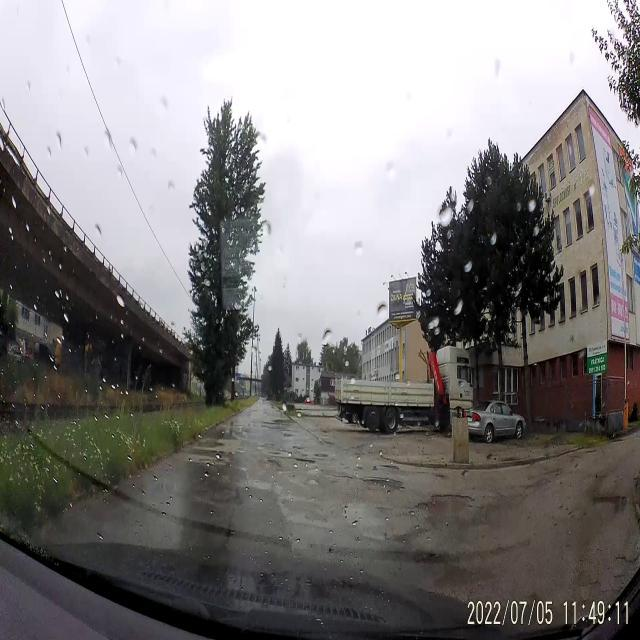Manhole: (316, 451, 330, 458)
Pothole: (414, 488, 472, 524), (362, 473, 404, 499), (327, 470, 353, 482), (266, 458, 284, 474), (294, 454, 314, 468), (265, 448, 291, 456), (292, 443, 306, 451), (284, 431, 294, 438), (324, 439, 334, 446), (322, 428, 328, 436)
